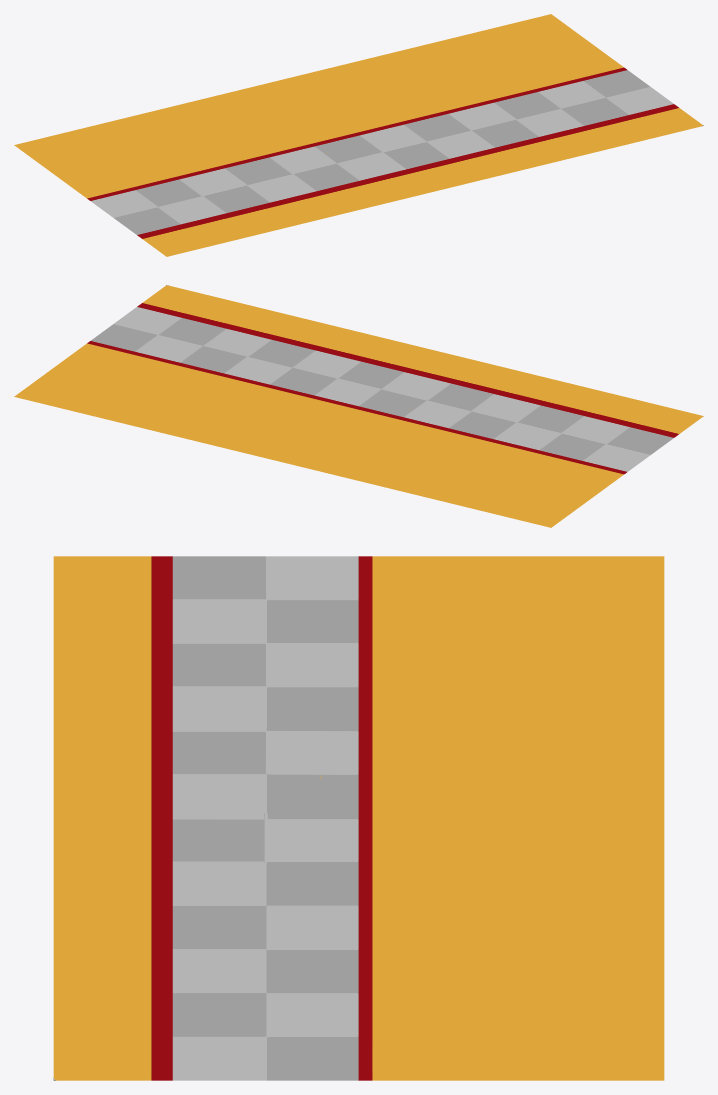
File: pred.fbx
3 renders of one model, top to bottom at view 1: azimuth 30°, elevation 25°; view 2: azimuth 150°, elevation 25°; view 3: azimuth 270°, elevation 25°, orthographic. The views are drawn at different scales.
Visible parts, largest first — view 1: Plano; view 2: Plano; view 3: Plano.
Boxes of the visible parts, x1,y1,x2,y2 form: Plano: [14, 14, 703, 256]; Plano: [14, 285, 703, 527]; Plano: [53, 556, 664, 1080].
Size of the model in its own units: 2400 by 0.000193 by 1182.
Materials: 1 (1 with a texture image).
